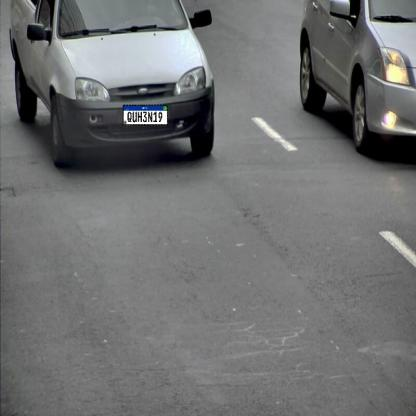PlacaM: (123, 104, 168, 126)
